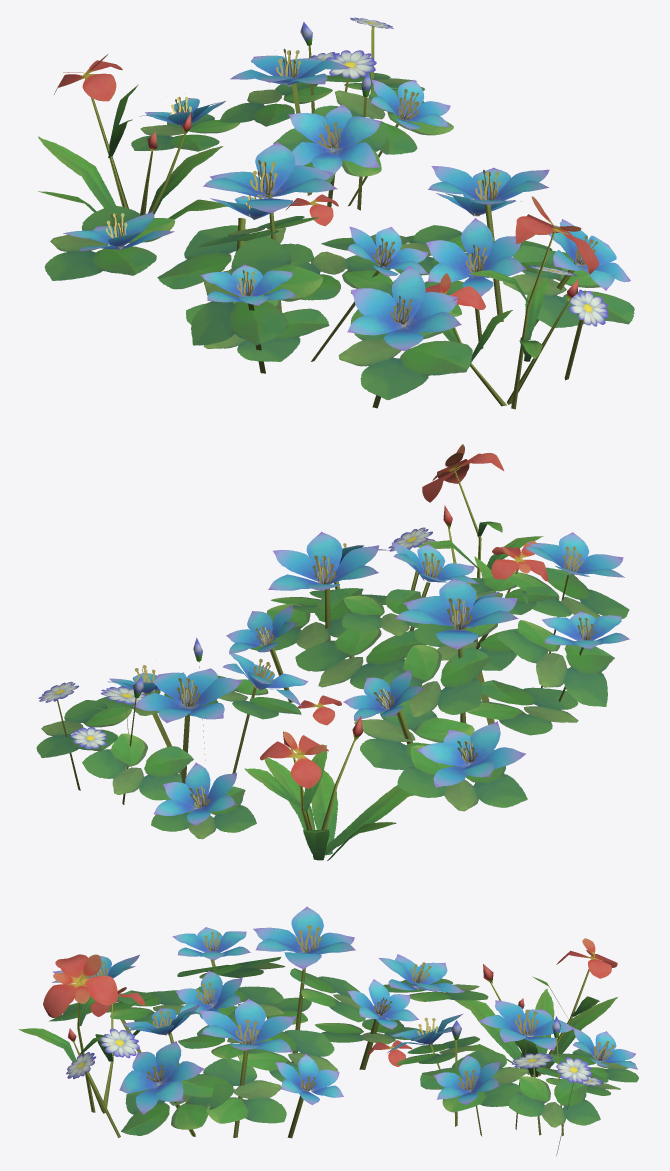
Rendered from Area_MdProps_Flower10.fbx.
3 views of the same model, one above another, from view 1: azimuth 30°, elevation 25°; view 2: azimuth 150°, elevation 25°; view 3: azimuth 270°, elevation 25° (orthographic). The views are drawn at different scales.
Parts seen in each view (by area): view 1: Area_MdProps_Flower10_Lod0; view 2: Area_MdProps_Flower10_Lod0; view 3: Area_MdProps_Flower10_Lod0.
Boxes of the visible parts, x1,y1,x2,y2 form: Area_MdProps_Flower10_Lod0: (38,17,634,409); Area_MdProps_Flower10_Lod0: (36,444,629,860); Area_MdProps_Flower10_Lod0: (19,906,638,1155).
Size of the model in its own units: 0.89 by 0.3883 by 1.3.
Materials: 1 (1 with a texture image).
